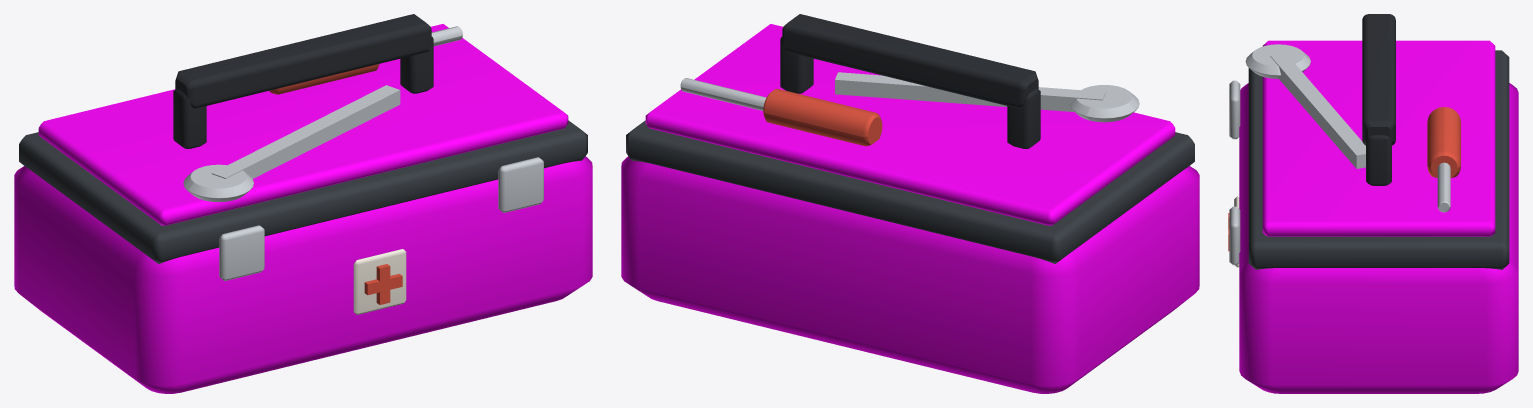
File: objet_kit_reparation.glb
3 views of the same model, side by side, from view 1: azimuth 30°, elevation 25°; view 2: azimuth 150°, elevation 25°; view 3: azimuth 270°, elevation 25° (orthographic). The views are drawn at different scales.
Parts seen in each view (by area): view 1: kit_teinte.002, kit_teinte_sombre.002, kit_composant.002, kit_composant_clair.002, kit_etiquette.002, kit_led_rouge.002; view 2: kit_teinte.002, kit_teinte_sombre.002, kit_composant.002, kit_composant_clair.002, kit_led_rouge.002; view 3: kit_teinte.002, kit_teinte_sombre.002, kit_composant_clair.002, kit_composant.002, kit_led_rouge.002.
Boxes of the visible parts, x1,y1,x2,y2 form: kit_teinte.002: (14,24,592,393); kit_teinte_sombre.002: (19,120,587,263); kit_composant.002: (173,14,433,148); kit_composant_clair.002: (183,26,543,280); kit_etiquette.002: (353,249,406,314); kit_led_rouge.002: (269,64,402,304); kit_teinte.002: (621,24,1199,393); kit_teinte_sombre.002: (626,120,1194,263); kit_composant.002: (780,14,1040,148); kit_composant_clair.002: (680,72,1139,122); kit_led_rouge.002: (763,89,882,146); kit_teinte.002: (1239,40,1518,393); kit_teinte_sombre.002: (1248,50,1509,269); kit_composant_clair.002: (1229,44,1450,265); kit_composant.002: (1362,14,1395,185); kit_led_rouge.002: (1228,107,1460,251).
Bounding box in the file's own units: 0.26 × 0.138 × 0.156.
